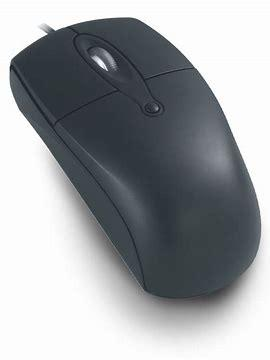computer mouse: (9, 17, 262, 301)
